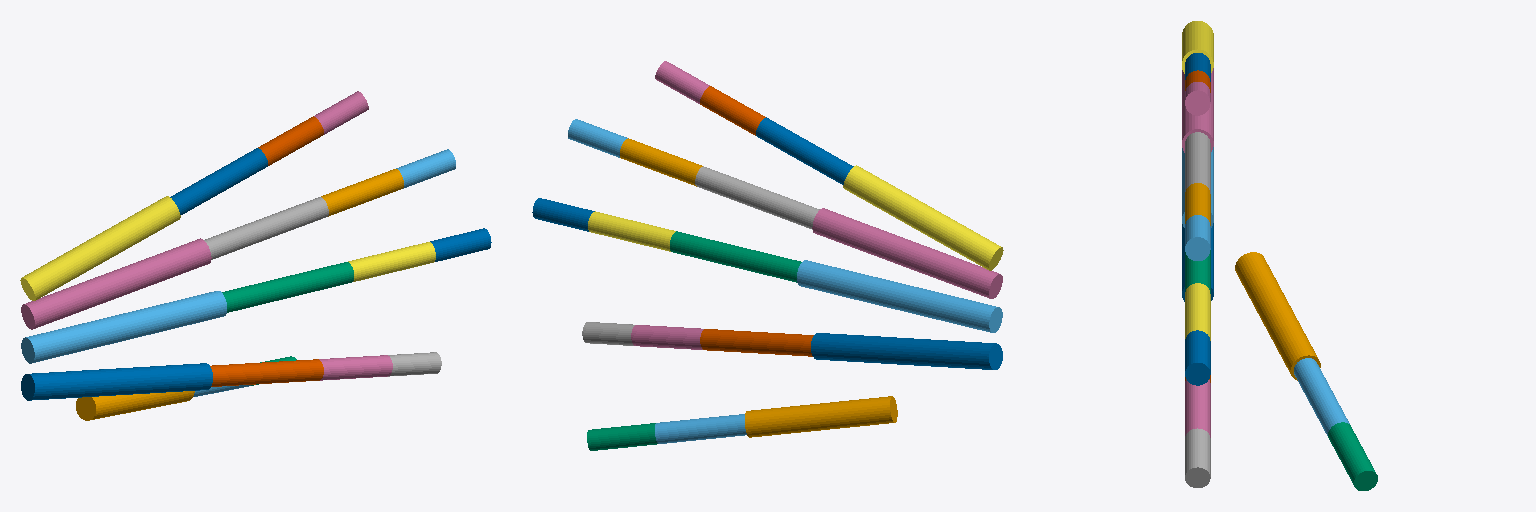
The robot description file, URDF, robot "ax50_left":
<robot name="ax50_left">
  <link name="link_0_0">
    <inertial>
      <origin xyz="0.0 1.5544763013660075e-19 0.0175" rpy="0 0 0" />
      <mass value="0.016584660957464963" />
      <inertia ixx="3.7047370331850545e-06" ixy="-9.478111185503441e-25" ixz="7.582488948402753e-24" iyy="3.7047370331850545e-06" iyz="2.9950831346190885e-23" izz="7.782522108814911e-07" />
    </inertial>
  </link>
  <link name="link_palm">
    <inertial>
      <origin xyz="0.0 0.0 0.028999999999999998" rpy="0 0 0" />
      <mass value="0.05103999624967584" />
      <inertia ixx="1.600954459083169e-05" ixy="0.0" ixz="0.0" iyy="2.1113543987632717e-05" iyz="-2.426396463488881e-22" izz="8.50666566133504e-06" />
    </inertial>
  </link>
  <joint name="link_0_0_to_link_palm" type="fixed">
    <parent link="link_0_0" />
    <child link="link_palm" />
    <origin xyz="0.0 0.0 0.0" rpy="0.0 0.0 0.0" />
  </joint>
  <link name="diagnostic_world">
    <inertial>
      <mass value="0.05" />
      <inertia ixx="0.00001" iyy="0.00001" izz="0.00001" ixy="0" ixz="0" iyz="0" />
    </inertial>
  </link>
  <link name="diagnostic_stage_x">
    <inertial>
      <mass value="0.05" />
      <inertia ixx="0.00001" iyy="0.00001" izz="0.00001" ixy="0" ixz="0" iyz="0" />
    </inertial>
  </link>
  <link name="diagnostic_stage_y">
    <inertial>
      <mass value="0.05" />
      <inertia ixx="0.00001" iyy="0.00001" izz="0.00001" ixy="0" ixz="0" iyz="0" />
    </inertial>
  </link>
  <joint name="diagnostic_wrist_x" type="fixed">
    <parent link="diagnostic_world" />
    <child link="diagnostic_stage_x" />
    <origin xyz="0 0 0" rpy="0 0 0" />
    <axis xyz="1 0 0" />
    <limit lower="-0.25" upper="0.25" effort="100" velocity="0.02" />
  </joint>
  <joint name="diagnostic_wrist_y" type="fixed">
    <parent link="diagnostic_stage_x" />
    <child link="diagnostic_stage_y" />
    <origin xyz="0 0 0" rpy="0 0 0" />
    <axis xyz="0 1 0" />
    <limit lower="-0.25" upper="0.25" effort="100" velocity="0.02" />
  </joint>
  <joint name="diagnostic_wrist_z" type="fixed">
    <parent link="diagnostic_stage_y" />
    <child link="wrist_translation_end" />
    <origin xyz="0 0 0" rpy="0 0 0" />
    <axis xyz="0 0 1" />
    <limit lower="-0.25" upper="0.25" effort="100" velocity="0.02" />
  </joint>
  <link name="wrist_translation_end">
    <inertial>
      <mass value=".02" />
      <inertia ixx="8e-7" iyy="8e-7" izz="8e-7" ixy="0" ixz="0" iyz="0" />
    </inertial>
  </link>
  <link name="wrist_roll_link">
    <inertial>
      <mass value=".02" />
      <inertia ixx="8e-7" iyy="8e-7" izz="8e-7" ixy="0" ixz="0" iyz="0" />
    </inertial>
  </link>
  <link name="wrist_pitch_link">
    <inertial>
      <mass value=".02" />
      <inertia ixx="8e-7" iyy="8e-7" izz="8e-7" ixy="0" ixz="0" iyz="0" />
    </inertial>
  </link>
  <joint name="wrist_roll" type="fixed">
    <parent link="wrist_translation_end" />
    <child link="wrist_roll_link" />
    <origin xyz="0 0 0" rpy="0 0 0" />
    <axis xyz="1 0 0" />
    <limit lower="-3.141592653589793" upper="3.141592653589793" effort="2" velocity="1" />
  </joint>
  <joint name="wrist_pitch" type="fixed">
    <parent link="wrist_roll_link" />
    <child link="wrist_pitch_link" />
    <origin xyz="0 0 0" rpy="0 0 0" />
    <axis xyz="0 1 0" />
    <limit lower="-3.141592653589793" upper="3.141592653589793" effort="2" velocity="1" />
  </joint>
  <joint name="wrist_yaw" type="fixed">
    <parent link="wrist_pitch_link" />
    <child link="link_0_0" />
    <origin xyz="0 0 0" rpy="0 0 0" />
    <axis xyz="0 0 1" />
    <limit lower="-3.141592653589793" upper="3.141592653589793" effort="2" velocity="1" />
  </joint>
  <link name="link_1_0">
    <inertial>
      <origin xyz="0 0 0.0225" rpy="0 0 0" />
      <mass value="0.0024881392799999996" />
      <inertia ixx="4.298260606199999e-07" iyy="4.298260606199999e-07" izz="1.9905114239999995e-08" ixy="0" ixz="0" iyz="0" />
    </inertial>
    <visual>
      <origin xyz="0 0 0.0225" rpy="0 0 0" />
      <geometry>
        <cylinder length="0.045" radius="0.004" />
      </geometry>
    </visual>
    <collision>
      <origin xyz="0 0 0.0225" rpy="0 0 0" />
      <geometry>
        <cylinder length="0.045" radius="0.004" />
      </geometry>
    </collision>
  </link>
  <joint name="arch_1" type="revolute">
    <parent link="thumb_cmc_base" />
    <child link="thumb_cmc_rollbase" />
    <origin xyz="0 0 0" rpy="2.3487742855039637 1.281255528956557 2.647630342780556" />
    <axis xyz="-0.7071067811865475 0 0.7071067811865476" /><limit lower="-.16" upper=".72" effort="1" velocity="3" /></joint>
  <link name="link_1_1">
    <inertial>
      <origin xyz="0 0 0.014" rpy="0 0 0" />
      <mass value="0.0009908323532800002" />
      <inertia ixx="6.727091123869015e-08" iyy="6.727091123869015e-08" izz="5.073061648793601e-09" ixy="0" ixz="0" iyz="0" />
    </inertial>
    <visual>
      <origin xyz="0 0 0.014" rpy="0 0 0" />
      <geometry>
        <cylinder length="0.028" radius="0.0032" />
      </geometry>
    </visual>
    <collision>
      <origin xyz="0 0 0.014" rpy="0 0 0" />
      <geometry>
        <cylinder length="0.028" radius="0.0032" />
      </geometry>
    </collision>
  </link>
  <joint name="digit_1_flex_1" type="revolute">
    <parent link="link_1_0" />
    <child link="link_1_1" />
    <origin xyz="0 0 0.045" rpy="0 0 0" />
    <axis xyz="-1 0 0" />
    <limit lower="0" upper="1.5" effort="0.8" velocity="2" />
  </joint>
  <link name="link_1_2">
    <inertial>
      <origin xyz="0 0 0.0105" rpy="0 0 0" />
      <mass value="0.0007431242649600001" />
      <inertia ixx="2.9212214855577606e-08" iyy="2.9212214855577606e-08" izz="3.8047962365952e-09" ixy="0" ixz="0" iyz="0" />
    </inertial>
    <visual>
      <origin xyz="0 0 0.0105" rpy="0 0 0" />
      <geometry>
        <cylinder length="0.021" radius="0.0032" />
      </geometry>
    </visual>
    <collision>
      <origin xyz="0 0 0.0105" rpy="0 0 0" />
      <geometry>
        <cylinder length="0.021" radius="0.0032" />
      </geometry>
    </collision>
  </link>
  <joint name="digit_1_flex_2" type="revolute">
    <parent link="link_1_1" />
    <child link="link_1_2" />
    <origin xyz="0 0 0.028" rpy="0 0 0" />
    <axis xyz="-1 0 0" />
    <limit lower="0" upper="1.5" effort="0.8" velocity="2" />
  </joint>
  <link name="tip_1" />
  <joint name="tip_1_marker" type="fixed">
    <parent link="link_1_2" />
    <child link="tip_1" />
    <origin xyz="0 0 0.021" rpy="0 0 0" />
  </joint>
  <link name="link_2_0">
    <inertial>
      <origin xyz="0 0 0.031" rpy="0 0 0" />
      <mass value="0.0034281030079999996" />
      <inertia ixx="1.1118480755946664e-06" iyy="1.1118480755946664e-06" izz="2.7424824063999996e-08" ixy="0" ixz="0" iyz="0" />
    </inertial>
    <visual>
      <origin xyz="0 0 0.031" rpy="0 0 0" />
      <geometry>
        <cylinder length="0.062" radius="0.004" />
      </geometry>
    </visual>
    <collision>
      <origin xyz="0 0 0.031" rpy="0 0 0" />
      <geometry>
        <cylinder length="0.062" radius="0.004" />
      </geometry>
    </collision>
  </link>
  <joint name="arch_2" type="revolute">
    <parent link="link_palm" />
    <child link="link_2_0" />
    <origin xyz="-0.012 0 -0.006" rpy="0 1.7453292519943295 0" />
  <axis xyz="-0.3420201433256687 0 0.9396926207859084" /><limit lower="-.16" upper=".72" effort="1" velocity="3" /></joint>
  <link name="link_2_1">
    <inertial>
      <origin xyz="0 0 0.0195" rpy="0 0 0" />
      <mass value="0.0013800879206400001" />
      <inertia ixx="1.7845916901795842e-07" iyy="1.7845916901795842e-07" izz="7.066050153676801e-09" ixy="0" ixz="0" iyz="0" />
    </inertial>
    <visual>
      <origin xyz="0 0 0.0195" rpy="0 0 0" />
      <geometry>
        <cylinder length="0.039" radius="0.0032" />
      </geometry>
    </visual>
    <collision>
      <origin xyz="0 0 0.0195" rpy="0 0 0" />
      <geometry>
        <cylinder length="0.039" radius="0.0032" />
      </geometry>
    </collision>
  </link>
  <joint name="digit_2_flex_1" type="revolute">
    <parent link="link_2_0" />
    <child link="link_2_1" />
    <origin xyz="0 0 0.062" rpy="0 0 0" />
    <axis xyz="-1 0 0" />
    <limit lower="0" upper="1.5" effort="0.8" velocity="2" />
  </joint>
  <link name="link_2_2">
    <inertial>
      <origin xyz="0 0 0.012" rpy="0 0 0" />
      <mass value="0.00084928487424" />
      <inertia ixx="4.2939843241574404e-08" iyy="4.2939843241574404e-08" izz="4.3483385561088e-09" ixy="0" ixz="0" iyz="0" />
    </inertial>
    <visual>
      <origin xyz="0 0 0.012" rpy="0 0 0" />
      <geometry>
        <cylinder length="0.024" radius="0.0032" />
      </geometry>
    </visual>
    <collision>
      <origin xyz="0 0 0.012" rpy="0 0 0" />
      <geometry>
        <cylinder length="0.024" radius="0.0032" />
      </geometry>
    </collision>
  </link>
  <joint name="digit_2_flex_2" type="revolute">
    <parent link="link_2_1" />
    <child link="link_2_2" />
    <origin xyz="0 0 0.039" rpy="0 0 0" />
    <axis xyz="-1 0 0" />
    <limit lower="0" upper="1.5" effort="0.8" velocity="2" />
  </joint>
  <link name="link_2_3">
    <inertial>
      <origin xyz="0 0 0.0085" rpy="0 0 0" />
      <mass value="0.00060157678592" />
      <inertia ixx="1.6028010832861867e-08" iyy="1.6028010832861867e-08" izz="3.0800731439104e-09" ixy="0" ixz="0" iyz="0" />
    </inertial>
    <visual>
      <origin xyz="0 0 0.0085" rpy="0 0 0" />
      <geometry>
        <cylinder length="0.017" radius="0.0032" />
      </geometry>
    </visual>
    <collision>
      <origin xyz="0 0 0.0085" rpy="0 0 0" />
      <geometry>
        <cylinder length="0.017" radius="0.0032" />
      </geometry>
    </collision>
  </link>
  <joint name="digit_2_flex_3" type="revolute">
    <parent link="link_2_2" />
    <child link="link_2_3" />
    <origin xyz="0 0 0.024" rpy="0 0 0" />
    <axis xyz="-1 0 0" />
    <limit lower="0" upper="1.5" effort="0.8" velocity="2" />
  </joint>
  <link name="tip_2" />
  <joint name="tip_2_marker" type="fixed">
    <parent link="link_2_3" />
    <child link="tip_2" />
    <origin xyz="0 0 0.017" rpy="0 0 0" />
  </joint>
  <link name="link_3_0">
    <inertial>
      <origin xyz="0 0 0.033" rpy="0 0 0" />
      <mass value="0.0036492709439999997" />
      <inertia ixx="1.3392824364480002e-06" iyy="1.3392824364480002e-06" izz="2.9194167551999997e-08" ixy="0" ixz="0" iyz="0" />
    </inertial>
    <visual>
      <origin xyz="0 0 0.033" rpy="0 0 0" />
      <geometry>
        <cylinder length="0.066" radius="0.004" />
      </geometry>
    </visual>
    <collision>
      <origin xyz="0 0 0.033" rpy="0 0 0" />
      <geometry>
        <cylinder length="0.066" radius="0.004" />
      </geometry>
    </collision>
  </link>
  <joint name="arch_3" type="revolute">
    <parent link="link_palm" />
    <child link="link_3_0" />
    <origin xyz="-0.012 0 0.006" rpy="0 1.5707963267948966 0" />
  <axis xyz="-0.30901699437494734 0 0.9510565162951536" /><limit lower="-.16" upper=".72" effort="1" velocity="3" /></joint>
  <link name="link_3_1">
    <inertial>
      <origin xyz="0 0 0.022" rpy="0 0 0" />
      <mass value="0.00155702226944" />
      <inertia ixx="2.5518556981275307e-07" iyy="2.5518556981275307e-07" izz="7.9719540195328e-09" ixy="0" ixz="0" iyz="0" />
    </inertial>
    <visual>
      <origin xyz="0 0 0.022" rpy="0 0 0" />
      <geometry>
        <cylinder length="0.044" radius="0.0032" />
      </geometry>
    </visual>
    <collision>
      <origin xyz="0 0 0.022" rpy="0 0 0" />
      <geometry>
        <cylinder length="0.044" radius="0.0032" />
      </geometry>
    </collision>
  </link>
  <joint name="digit_3_flex_1" type="revolute">
    <parent link="link_3_0" />
    <child link="link_3_1" />
    <origin xyz="0 0 0.066" rpy="0 0 0" />
    <axis xyz="-1 0 0" />
    <limit lower="0" upper="1.5" effort="0.8" velocity="2" />
  </joint>
  <link name="link_3_2">
    <inertial>
      <origin xyz="0 0 0.014" rpy="0 0 0" />
      <mass value="0.0009908323532800002" />
      <inertia ixx="6.727091123869015e-08" iyy="6.727091123869015e-08" izz="5.073061648793601e-09" ixy="0" ixz="0" iyz="0" />
    </inertial>
    <visual>
      <origin xyz="0 0 0.014" rpy="0 0 0" />
      <geometry>
        <cylinder length="0.028" radius="0.0032" />
      </geometry>
    </visual>
    <collision>
      <origin xyz="0 0 0.014" rpy="0 0 0" />
      <geometry>
        <cylinder length="0.028" radius="0.0032" />
      </geometry>
    </collision>
  </link>
  <joint name="digit_3_flex_2" type="revolute">
    <parent link="link_3_1" />
    <child link="link_3_2" />
    <origin xyz="0 0 0.044" rpy="0 0 0" />
    <axis xyz="-1 0 0" />
    <limit lower="0" upper="1.5" effort="0.8" velocity="2" />
  </joint>
  <link name="link_3_3">
    <inertial>
      <origin xyz="0 0 0.0095" rpy="0 0 0" />
      <mass value="0.00067235052544" />
      <inertia ixx="2.1947762318779737e-08" iyy="2.1947762318779737e-08" izz="3.4424346902528e-09" ixy="0" ixz="0" iyz="0" />
    </inertial>
    <visual>
      <origin xyz="0 0 0.0095" rpy="0 0 0" />
      <geometry>
        <cylinder length="0.019" radius="0.0032" />
      </geometry>
    </visual>
    <collision>
      <origin xyz="0 0 0.0095" rpy="0 0 0" />
      <geometry>
        <cylinder length="0.019" radius="0.0032" />
      </geometry>
    </collision>
  </link>
  <joint name="digit_3_flex_3" type="revolute">
    <parent link="link_3_2" />
    <child link="link_3_3" />
    <origin xyz="0 0 0.028" rpy="0 0 0" />
    <axis xyz="-1 0 0" />
    <limit lower="0" upper="1.5" effort="0.8" velocity="2" />
  </joint>
  <link name="tip_3" />
  <joint name="tip_3_marker" type="fixed">
    <parent link="link_3_3" />
    <child link="tip_3" />
    <origin xyz="0 0 0.019" rpy="0 0 0" />
  </joint>
  <link name="link_4_0">
    <inertial>
      <origin xyz="0 0 0.0305" rpy="0 0 0" />
      <mass value="0.0033728110239999998" />
      <inertia ixx="1.0593437291213333e-06" iyy="1.0593437291213333e-06" izz="2.6982488191999995e-08" ixy="0" ixz="0" iyz="0" />
    </inertial>
    <visual>
      <origin xyz="0 0 0.0305" rpy="0 0 0" />
      <geometry>
        <cylinder length="0.061" radius="0.004" />
      </geometry>
    </visual>
    <collision>
      <origin xyz="0 0 0.0305" rpy="0 0 0" />
      <geometry>
        <cylinder length="0.061" radius="0.004" />
      </geometry>
    </collision>
  </link>
  <joint name="arch_4" type="revolute">
    <parent link="link_palm" />
    <child link="link_4_0" />
    <origin xyz="-0.012 0 0.017" rpy="0 1.4486232791552935 0" />
    <axis xyz="-0.35836794954530027 0 0.9335804264972017" /><limit lower="-.16" upper=".72" effort="1" velocity="3" /></joint>
  <link name="link_4_1">
    <inertial>
      <origin xyz="0 0 0.0205" rpy="0 0 0" />
      <mass value="0.0014508616601600001" />
      <inertia ixx="2.069557434107563e-07" iyy="2.069557434107563e-07" izz="7.428411700019201e-09" ixy="0" ixz="0" iyz="0" />
    </inertial>
    <visual>
      <origin xyz="0 0 0.0205" rpy="0 0 0" />
      <geometry>
        <cylinder length="0.041" radius="0.0032" />
      </geometry>
    </visual>
    <collision>
      <origin xyz="0 0 0.0205" rpy="0 0 0" />
      <geometry>
        <cylinder length="0.041" radius="0.0032" />
      </geometry>
    </collision>
  </link>
  <joint name="digit_4_flex_1" type="revolute">
    <parent link="link_4_0" />
    <child link="link_4_1" />
    <origin xyz="0 0 0.061" rpy="0 0 0" />
    <axis xyz="-1 0 0" />
    <limit lower="0" upper="1.5" effort="0.8" velocity="2" />
  </joint>
  <link name="link_4_2">
    <inertial>
      <origin xyz="0 0 0.013" rpy="0 0 0" />
      <mass value="0.00092005861376" />
      <inertia ixx="5.418531862637226e-08" iyy="5.418531862637226e-08" izz="4.7107001024512e-09" ixy="0" ixz="0" iyz="0" />
    </inertial>
    <visual>
      <origin xyz="0 0 0.013" rpy="0 0 0" />
      <geometry>
        <cylinder length="0.026" radius="0.0032" />
      </geometry>
    </visual>
    <collision>
      <origin xyz="0 0 0.013" rpy="0 0 0" />
      <geometry>
        <cylinder length="0.026" radius="0.0032" />
      </geometry>
    </collision>
  </link>
  <joint name="digit_4_flex_2" type="revolute">
    <parent link="link_4_1" />
    <child link="link_4_2" />
    <origin xyz="0 0 0.041" rpy="0 0 0" />
    <axis xyz="-1 0 0" />
    <limit lower="0" upper="1.5" effort="0.8" velocity="2" />
  </joint>
  <link name="link_4_3">
    <inertial>
      <origin xyz="0 0 0.009" rpy="0 0 0" />
      <mass value="0.00063696365568" />
      <inertia ixx="1.8828645661900803e-08" iyy="1.8828645661900803e-08" izz="3.2612539170816003e-09" ixy="0" ixz="0" iyz="0" />
    </inertial>
    <visual>
      <origin xyz="0 0 0.009" rpy="0 0 0" />
      <geometry>
        <cylinder length="0.018" radius="0.0032" />
      </geometry>
    </visual>
    <collision>
      <origin xyz="0 0 0.009" rpy="0 0 0" />
      <geometry>
        <cylinder length="0.018" radius="0.0032" />
      </geometry>
    </collision>
  </link>
  <joint name="digit_4_flex_3" type="revolute">
    <parent link="link_4_2" />
    <child link="link_4_3" />
    <origin xyz="0 0 0.026" rpy="0 0 0" />
    <axis xyz="-1 0 0" />
    <limit lower="0" upper="1.5" effort="0.8" velocity="2" />
  </joint>
  <link name="tip_4" />
  <joint name="tip_4_marker" type="fixed">
    <parent link="link_4_3" />
    <child link="tip_4" />
    <origin xyz="0 0 0.018" rpy="0 0 0" />
  </joint>
  <link name="link_5_0">
    <inertial>
      <origin xyz="0 0 0.026" rpy="0 0 0" />
      <mass value="0.0028751831679999997" />
      <inertia ixx="6.593753398613331e-07" iyy="6.593753398613331e-07" izz="2.3001465343999996e-08" ixy="0" ixz="0" iyz="0" />
    </inertial>
    <visual>
      <origin xyz="0 0 0.026" rpy="0 0 0" />
      <geometry>
        <cylinder length="0.052" radius="0.004" />
      </geometry>
    </visual>
    <collision>
      <origin xyz="0 0 0.026" rpy="0 0 0" />
      <geometry>
        <cylinder length="0.052" radius="0.004" />
      </geometry>
    </collision>
  </link>
  <joint name="arch_5" type="revolute">
    <parent link="link_palm" />
    <child link="link_5_0" />
    <origin xyz="-0.012 0 0.026" rpy="0 1.2740903539558606 0" />
    <axis xyz="-0.4383711467890775 0 0.8987940462991669" /><limit lower="-.16" upper=".72" effort="1" velocity="3" /></joint>
  <link name="link_5_1">
    <inertial>
      <origin xyz="0 0 0.016" rpy="0 0 0" />
      <mass value="0.00113237983232" />
      <inertia ixx="9.952863806204587e-08" iyy="9.952863806204587e-08" izz="5.7977847414784e-09" ixy="0" ixz="0" iyz="0" />
    </inertial>
    <visual>
      <origin xyz="0 0 0.016" rpy="0 0 0" />
      <geometry>
        <cylinder length="0.032" radius="0.0032" />
      </geometry>
    </visual>
    <collision>
      <origin xyz="0 0 0.016" rpy="0 0 0" />
      <geometry>
        <cylinder length="0.032" radius="0.0032" />
      </geometry>
    </collision>
  </link>
  <joint name="digit_5_flex_1" type="revolute">
    <parent link="link_5_0" />
    <child link="link_5_1" />
    <origin xyz="0 0 0.052" rpy="0 0 0" />
    <axis xyz="-1 0 0" />
    <limit lower="0" upper="1.5" effort="0.8" velocity="2" />
  </joint>
  <link name="link_5_2">
    <inertial>
      <origin xyz="0 0 0.01" rpy="0 0 0" />
      <mass value="0.0007077373952000001" />
      <inertia ixx="2.540305423837867e-08" iyy="2.540305423837867e-08" izz="3.6236154634240004e-09" ixy="0" ixz="0" iyz="0" />
    </inertial>
    <visual>
      <origin xyz="0 0 0.01" rpy="0 0 0" />
      <geometry>
        <cylinder length="0.02" radius="0.0032" />
      </geometry>
    </visual>
    <collision>
      <origin xyz="0 0 0.01" rpy="0 0 0" />
      <geometry>
        <cylinder length="0.02" radius="0.0032" />
      </geometry>
    </collision>
  </link>
  <joint name="digit_5_flex_2" type="revolute">
    <parent link="link_5_1" />
    <child link="link_5_2" />
    <origin xyz="0 0 0.032" rpy="0 0 0" />
    <axis xyz="-1 0 0" />
    <limit lower="0" upper="1.5" effort="0.8" velocity="2" />
  </joint>
  <link name="link_5_3">
    <inertial>
      <origin xyz="0 0 0.008" rpy="0 0 0" />
      <mass value="0.00056618991616" />
      <inertia ixx="1.352816439678293e-08" iyy="1.352816439678293e-08" izz="2.8988923707392e-09" ixy="0" ixz="0" iyz="0" />
    </inertial>
    <visual>
      <origin xyz="0 0 0.008" rpy="0 0 0" />
      <geometry>
        <cylinder length="0.016" radius="0.0032" />
      </geometry>
    </visual>
    <collision>
      <origin xyz="0 0 0.008" rpy="0 0 0" />
      <geometry>
        <cylinder length="0.016" radius="0.0032" />
      </geometry>
    </collision>
  </link>
  <joint name="digit_5_flex_3" type="revolute">
    <parent link="link_5_2" />
    <child link="link_5_3" />
    <origin xyz="0 0 0.02" rpy="0 0 0" />
    <axis xyz="-1 0 0" />
    <limit lower="0" upper="1.5" effort="0.8" velocity="2" />
  </joint>
  <link name="tip_5" />
  <joint name="tip_5_marker" type="fixed">
    <parent link="link_5_3" />
    <child link="tip_5" />
    <origin xyz="0 0 0.016" rpy="0 0 0" />
  </joint>
<link name="thumb_cmc_base"><inertial><mass value=".003" /><inertia ixx=".000001" iyy=".000001" izz=".000001" ixy="0" ixz="0" iyz="0" /></inertial></link><joint name="thumb_sweep" type="revolute"><parent link="link_palm" /><child link="thumb_cmc_base" /><origin xyz="0.015437572360192504 0.013100798997232026 -0.02433866249389827" /><axis xyz="0.000000000000000000e+00 -9.848077530118719558e-01 -1.736481776666482513e-01" /><limit lower="-.69" upper=".95" effort="1" velocity="2" /></joint><link name="thenar"><inertial><mass value=".035" /><inertia ixx=".000003" iyy=".000005" izz=".000003" ixy="0" ixz="0" iyz="0" /></inertial></link><joint name="tissue" type="prismatic"><parent link="diagnostic_world" /><child link="thenar" /><origin xyz="-0.000499106477946043 .006 -0.016500895842909813" /><axis xyz="0 1 0" /><limit lower="-.009" upper=".017" effort="80" velocity=".3" /></joint><link name="thumb_cmc_rollbase"><inertial><mass value=".002" /><inertia ixx=".000001" iyy=".000001" izz=".000001" ixy="0" ixz="0" iyz="0" /></inertial></link><joint name="thumb_axial" type="revolute"><parent link="thumb_cmc_rollbase" /><child link="link_1_0" /><axis xyz="0 0 1" /><limit lower="-1.5" upper="1.5" effort=".8" velocity="2" /></joint></robot>

--- What the picture shows (computed from the rendered views, not written in the file) ---
The picture shows the robot from 3 angles, left to right: view 1: azimuth 30°, elevation 25°; view 2: azimuth 150°, elevation 25°; view 3: azimuth 270°, elevation 25°; orthographic projection.
Model ax50_left with 35 links and 34 joints (21 revolute, 1 prismatic, 12 fixed), rooted at diagnostic_world, posed every joint at zero.
Visible links, largest first — view 1: link_3_0, link_4_0, link_2_0, link_5_0, link_3_1, link_4_1, link_2_1, link_5_1, link_1_0, link_3_2, link_4_2, link_2_2 (+5 smaller); view 2: link_3_0, link_4_0, link_2_0, link_5_0, link_1_0, link_3_1, link_4_1, link_2_1, link_5_1, link_1_1, link_3_2, link_4_2 (+7 smaller); view 3: link_1_0, link_1_1, link_1_2, link_2_3, link_4_1, link_3_3, link_2_2, link_3_2, link_5_0, link_4_3, link_4_0, link_4_2 (+2 smaller).
Boxes of the visible links, <box> form: link_3_0: <box>21,291,226,363</box>; link_4_0: <box>21,238,211,329</box>; link_2_0: <box>21,363,212,400</box>; link_5_0: <box>20,196,180,300</box>; link_3_1: <box>222,262,353,312</box>; link_4_1: <box>204,197,328,259</box>; link_2_1: <box>210,359,323,386</box>; link_5_1: <box>170,148,267,214</box>; link_1_0: <box>76,391,194,420</box>; link_3_2: <box>348,242,435,281</box>; link_4_2: <box>321,169,403,216</box>; link_2_2: <box>319,355,392,380</box>; link_3_0: <box>797,260,1002,332</box>; link_4_0: <box>812,208,1002,298</box>; link_2_0: <box>811,333,1002,369</box>; link_5_0: <box>843,165,1003,270</box>; link_1_0: <box>745,396,897,437</box>; link_3_1: <box>670,231,801,282</box>; link_4_1: <box>695,166,819,229</box>; link_2_1: <box>700,329,813,356</box>; link_5_1: <box>756,117,853,184</box>; link_1_1: <box>655,414,746,443</box>; link_3_2: <box>588,211,675,251</box>; link_4_2: <box>620,138,702,186</box>; link_1_0: <box>1235,252,1320,380</box>; link_1_1: <box>1294,358,1349,435</box>; link_1_2: <box>1328,422,1377,490</box>; link_2_3: <box>1185,428,1210,487</box>; link_4_1: <box>1185,132,1210,193</box>; link_3_3: <box>1185,330,1210,385</box>; link_2_2: <box>1185,379,1210,437</box>; link_3_2: <box>1185,283,1210,340</box>; link_5_0: <box>1182,21,1213,73</box>; link_4_3: <box>1185,215,1210,260</box>; link_4_0: <box>1182,68,1213,152</box>; link_4_2: <box>1185,183,1210,225</box>.
Size in the robot's own frame: 0.1582 by 0.0491 by 0.1105 metres.
Geometry: primitives only (box / cylinder / sphere), no mesh files.
